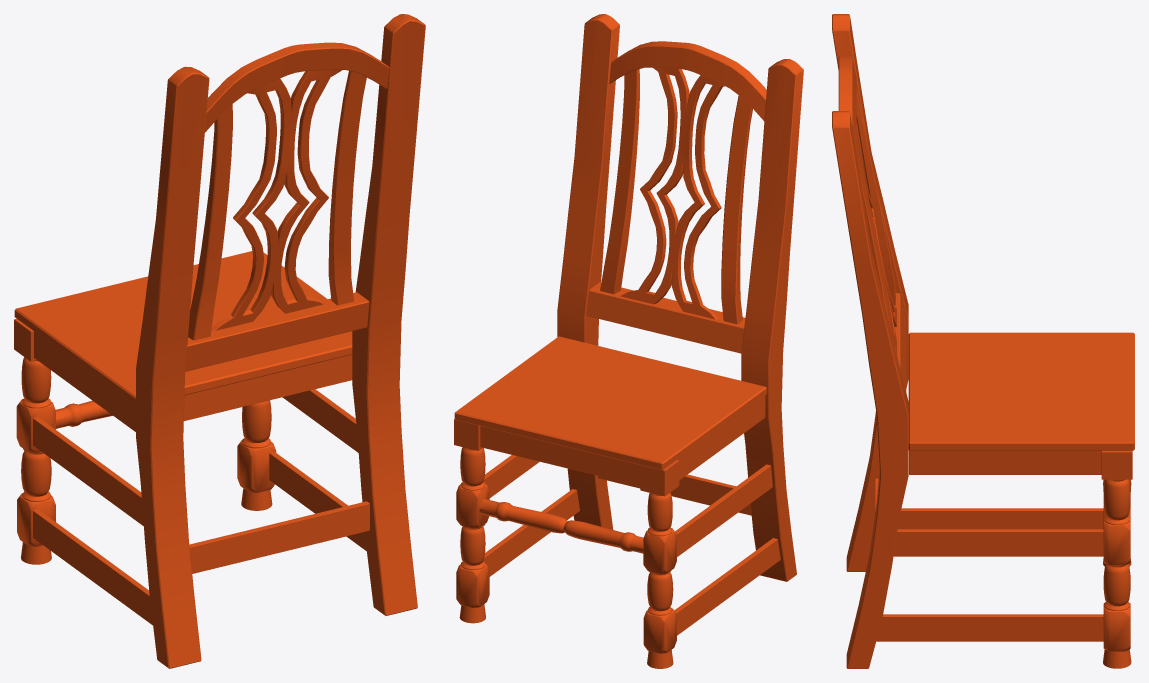
Rendered from Char_for_Desk.fbx.
3 renders of one model, left to right at view 1: azimuth 30°, elevation 25°; view 2: azimuth 150°, elevation 25°; view 3: azimuth 270°, elevation 25°, orthographic. The views are drawn at different scales.
Parts seen in each view (by area): view 1: Chair_2; view 2: Chair_2; view 3: Chair_2.
Boxes of the visible parts, x1,y1,x2,y2 form: Chair_2: [14, 14, 425, 668]; Chair_2: [454, 14, 803, 668]; Chair_2: [832, 14, 1134, 668].
Bounding box in the file's own units: 0.4276 × 0.979 × 0.4888.
